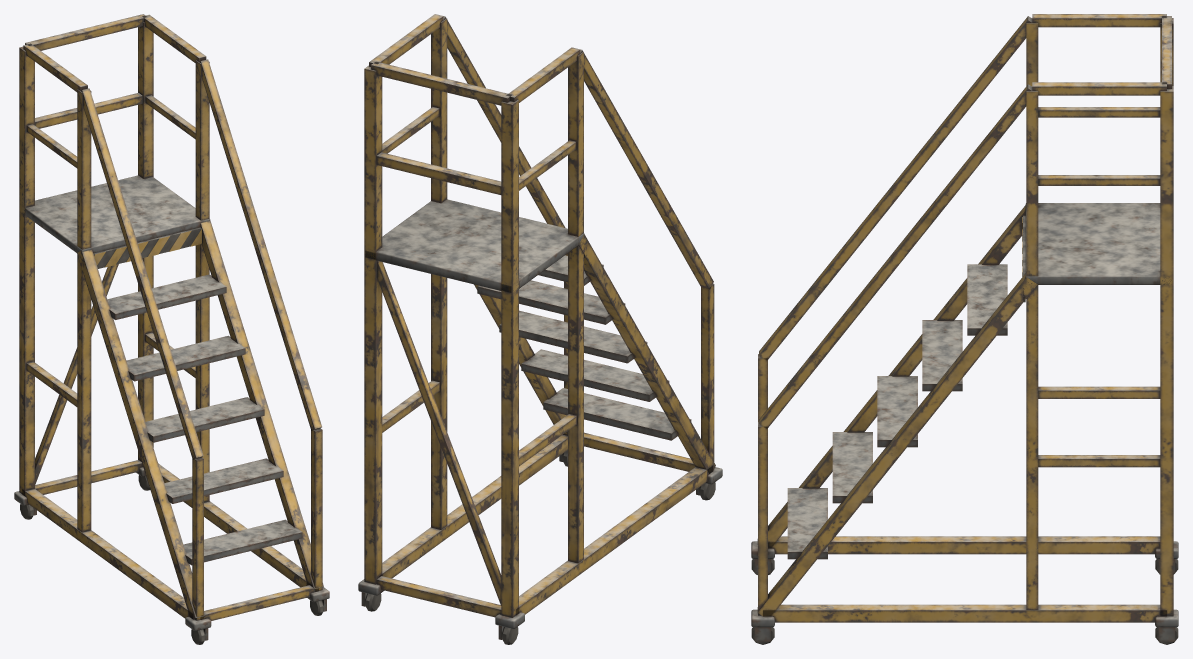
Rendered from rolling_ladder.fbx.
3 renders of one model, left to right at view 1: azimuth 30°, elevation 25°; view 2: azimuth 150°, elevation 25°; view 3: azimuth 270°, elevation 25°, orthographic. The views are drawn at different scales.
Visible parts, largest first — view 1: Body; view 2: Body; view 3: Body.
Boxes of the visible parts, left/top/right/bottom form: Body: left=14, top=14, right=329, bottom=644; Body: left=358, top=14, right=722, bottom=644; Body: left=751, top=14, right=1178, bottom=644.
Bounding box in the file's own units: 2.75 × 9.18 × 6.35.
1 material, 1 textured.
